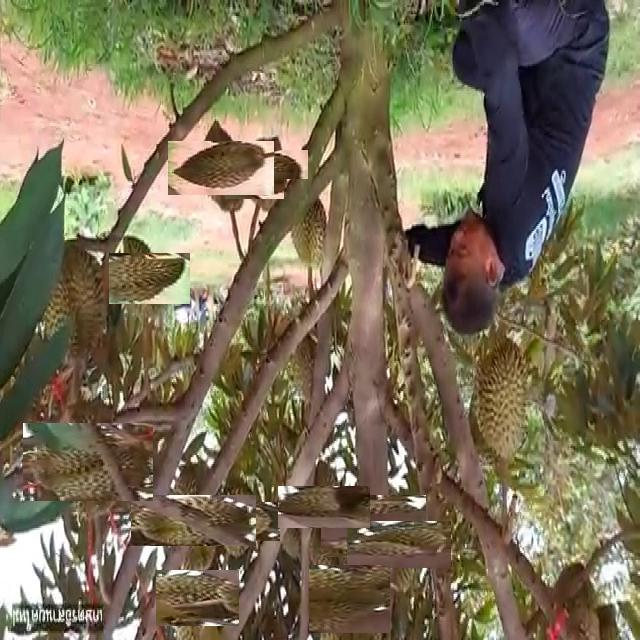durian: (36, 409, 140, 514), (38, 237, 108, 369), (468, 335, 530, 466), (149, 476, 238, 564), (332, 484, 416, 568), (180, 128, 261, 208), (361, 507, 437, 583), (312, 562, 387, 636), (107, 242, 180, 315), (163, 563, 233, 633), (290, 473, 357, 541), (233, 141, 300, 208), (284, 179, 330, 275), (204, 490, 268, 554)
